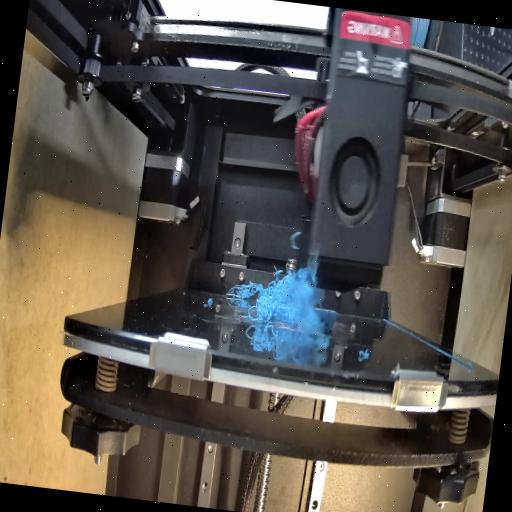spaghetti: (230, 266, 306, 323)
